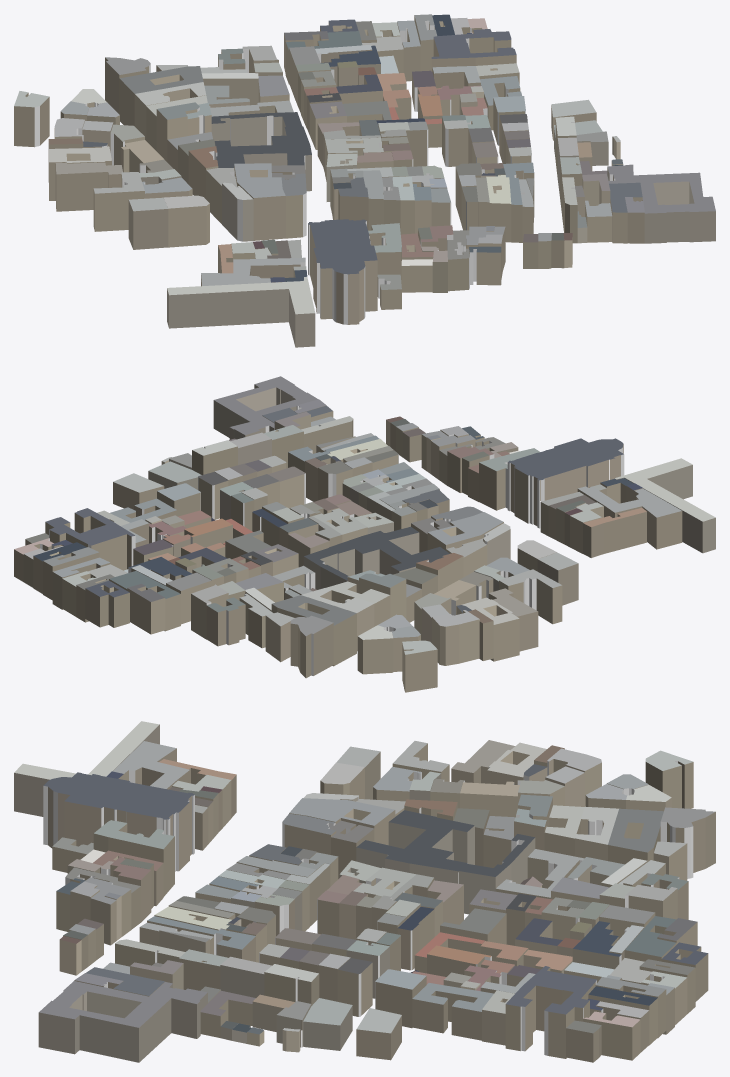
3 views of the same model, one above another, from view 1: azimuth 30°, elevation 25°; view 2: azimuth 150°, elevation 25°; view 3: azimuth 270°, elevation 25° (orthographic). The views are drawn at different scales.
Visible parts, largest first — view 1: tuile; view 2: tuile; view 3: tuile.
Boxes of the visible parts, x1,y1,x2,y2 form: tuile: (14,14,715,347); tuile: (14,376,715,692); tuile: (14,721,715,1062).
Bounding box in the file's own units: 289 × 30.45 × 285.
